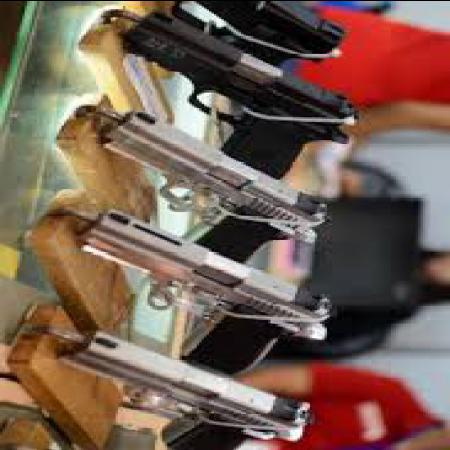Pistol: (74, 206, 337, 383), (103, 5, 357, 175), (94, 103, 340, 260)
